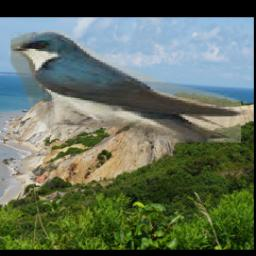Swallow: (12, 30, 242, 143)
